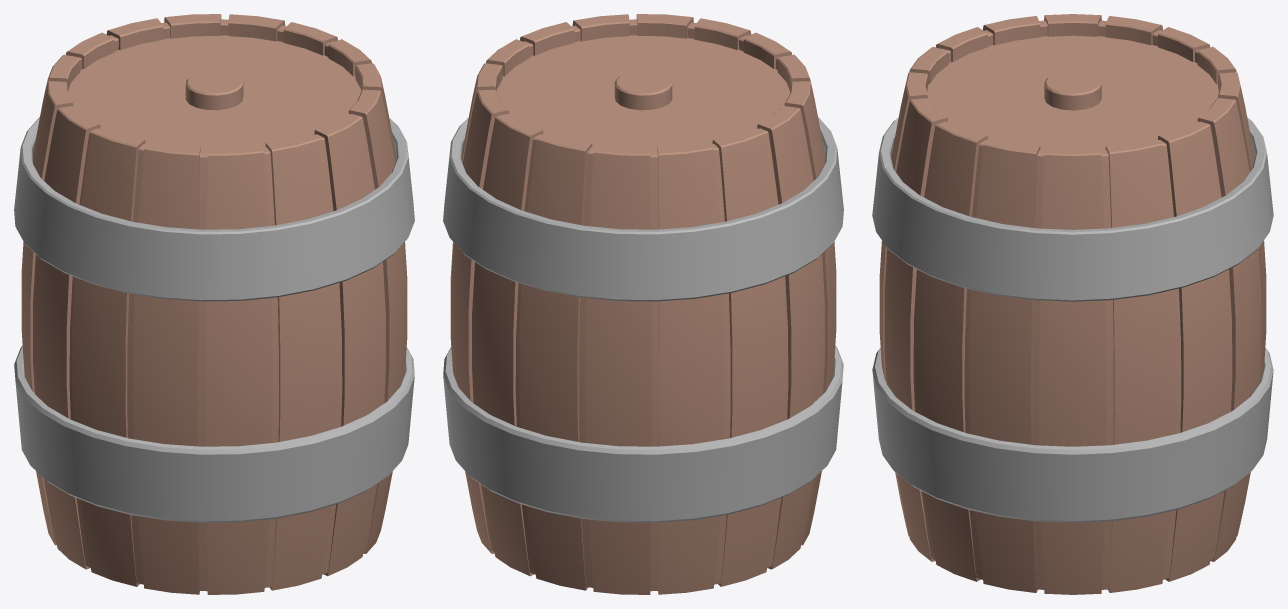
The model's file is SM_WoodBarrel_2.fbx.
3 renders of one model, left to right at view 1: azimuth 30°, elevation 25°; view 2: azimuth 150°, elevation 25°; view 3: azimuth 270°, elevation 25°, orthographic.
Parts seen in each view (by area): view 1: polySurface1; view 2: polySurface1; view 3: polySurface1.
Part boxes in pixels (<box>): polySurface1: <box>14,14,414,594</box>; polySurface1: <box>443,14,843,594</box>; polySurface1: <box>872,14,1273,594</box>.
Bounding box in the file's own units: 87.71 × 107 × 87.71.
